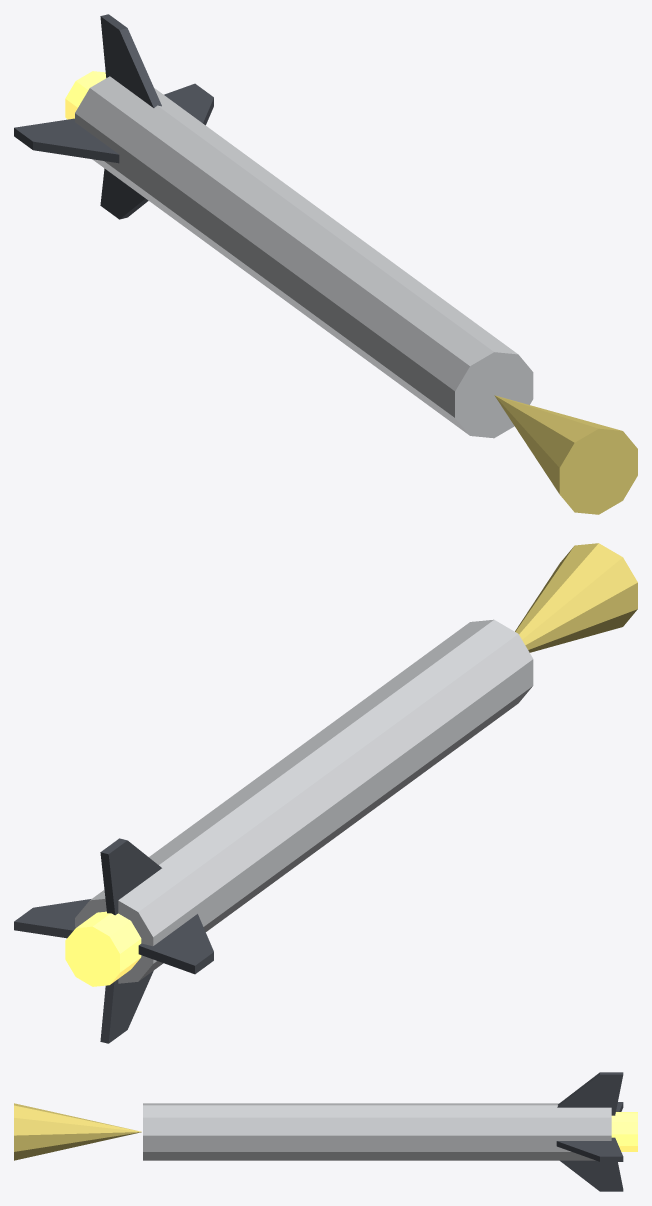
File: missile.glb
3 renders of one model, top to bottom at view 1: azimuth 30°, elevation 25°; view 2: azimuth 150°, elevation 25°; view 3: azimuth 270°, elevation 25°, orthographic. The views are drawn at different scales.
Visible parts, largest first — view 1: missile; view 2: missile; view 3: missile.
Boxes of the visible parts, x1=… form: missile: x1=14, y1=14, x2=637, y2=514; missile: x1=14, y1=543, x2=637, y2=1043; missile: x1=14, y1=1072, x2=637, y2=1191.
Bounding box in the file's own units: 0.2066 × 0.2066 × 1.
